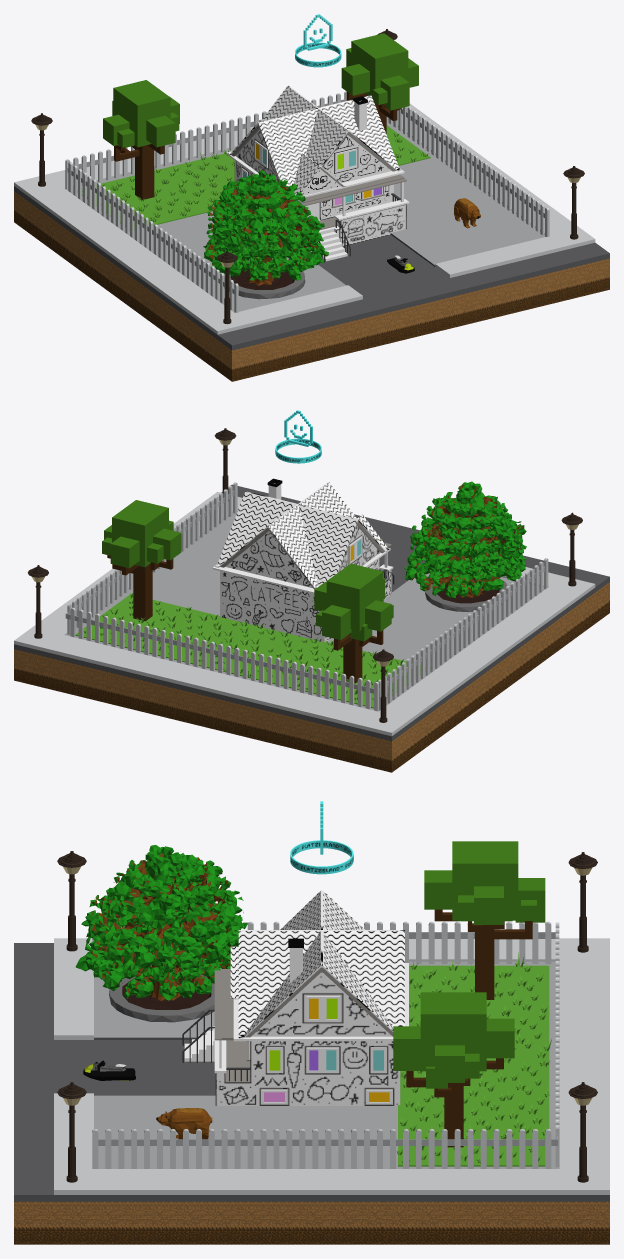
The picture shows the model from 3 angles, top to bottom: view 1: azimuth 30°, elevation 25°; view 2: azimuth 150°, elevation 25°; view 3: azimuth 270°, elevation 25°; orthographic projection. The views are drawn at different scales.
Parts seen in each view (by area): view 1: Cube.004, Cube.879, OBJRANDOM_CEIBA, TYPE_PREMIUM, ANIMAL_OSO; view 2: Cube.004, Cube.879, OBJRANDOM_CEIBA, TYPE_PREMIUM; view 3: Cube.004, Cube.879, OBJRANDOM_CEIBA, TYPE_PREMIUM, ANIMAL_OSO, VEHICLES_WATERBIKE.
Boxes of the visible parts, x1=… form: Cube.004: x1=14, y1=29, x2=609, y2=381; Cube.879: x1=226, y1=86, x2=409, y2=262; OBJRANDOM_CEIBA: x1=203, y1=170, x2=328, y2=299; TYPE_PREMIUM: x1=295, y1=14, x2=341, y2=67; ANIMAL_OSO: x1=454, y1=198, x2=480, y2=228; Cube.004: x1=14, y1=428, x2=609, y2=772; Cube.879: x1=212, y1=478, x2=394, y2=642; OBJRANDOM_CEIBA: x1=404, y1=481, x2=526, y2=611; TYPE_PREMIUM: x1=275, y1=410, x2=321, y2=463; Cube.004: x1=14, y1=841, x2=609, y2=1244; Cube.879: x1=182, y1=890, x2=408, y2=1105; OBJRANDOM_CEIBA: x1=75, y1=845, x2=247, y2=1022; TYPE_PREMIUM: x1=290, y1=801, x2=353, y2=874; ANIMAL_OSO: x1=156, y1=1108, x2=212, y2=1139; VEHICLES_WATERBIKE: x1=83, y1=1060, x2=135, y2=1080.
Size of the model in its own units: 4000 by 2444 by 4000.
37 materials, 11 textured.
